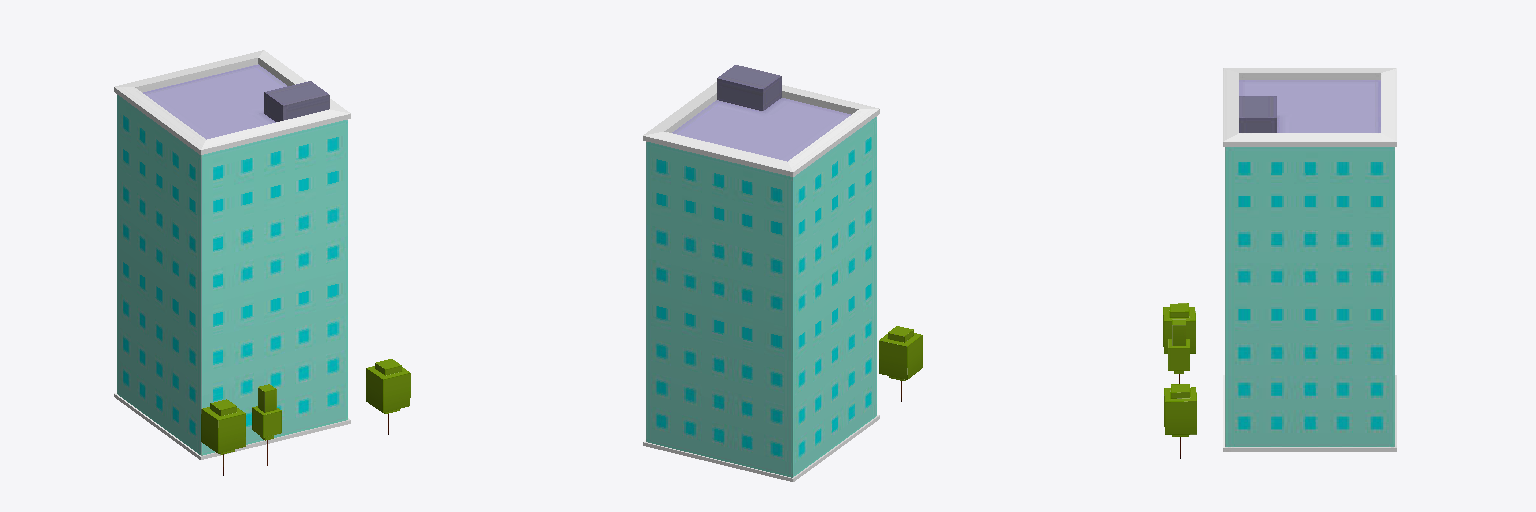
3 renders of one model, left to right at view 1: azimuth 30°, elevation 25°; view 2: azimuth 150°, elevation 25°; view 3: azimuth 270°, elevation 25°, orthographic.
Visible parts, largest first — view 1: living_blue_2lvl_Mesh.001, Tree_3_499_2.186_Mesh.002, Tree_3_499_2.187_Mesh.102, Tree_2_3_61.460_Mesh.003; view 2: living_blue_2lvl_Mesh.001, Tree_3_499_2.186_Mesh.002; view 3: living_blue_2lvl_Mesh.001, Tree_3_499_2.187_Mesh.102, Tree_2_3_61.460_Mesh.003, Tree_3_499_2.186_Mesh.002.
Part boxes in pixels (bbox=[...]): living_blue_2lvl_Mesh.001: bbox=[114, 50, 350, 459]; Tree_3_499_2.186_Mesh.002: bbox=[201, 399, 245, 475]; Tree_3_499_2.187_Mesh.102: bbox=[366, 359, 410, 434]; Tree_2_3_61.460_Mesh.003: bbox=[252, 384, 281, 465]; living_blue_2lvl_Mesh.001: bbox=[643, 65, 879, 481]; Tree_3_499_2.186_Mesh.002: bbox=[879, 326, 922, 401]; living_blue_2lvl_Mesh.001: bbox=[1223, 68, 1396, 451]; Tree_3_499_2.187_Mesh.102: bbox=[1164, 384, 1196, 458]; Tree_2_3_61.460_Mesh.003: bbox=[1168, 319, 1189, 383]; Tree_3_499_2.186_Mesh.002: bbox=[1163, 303, 1195, 353].
Size of the model in its own units: 1.63 by 2.63 by 1.7.
3 materials, 3 textured.